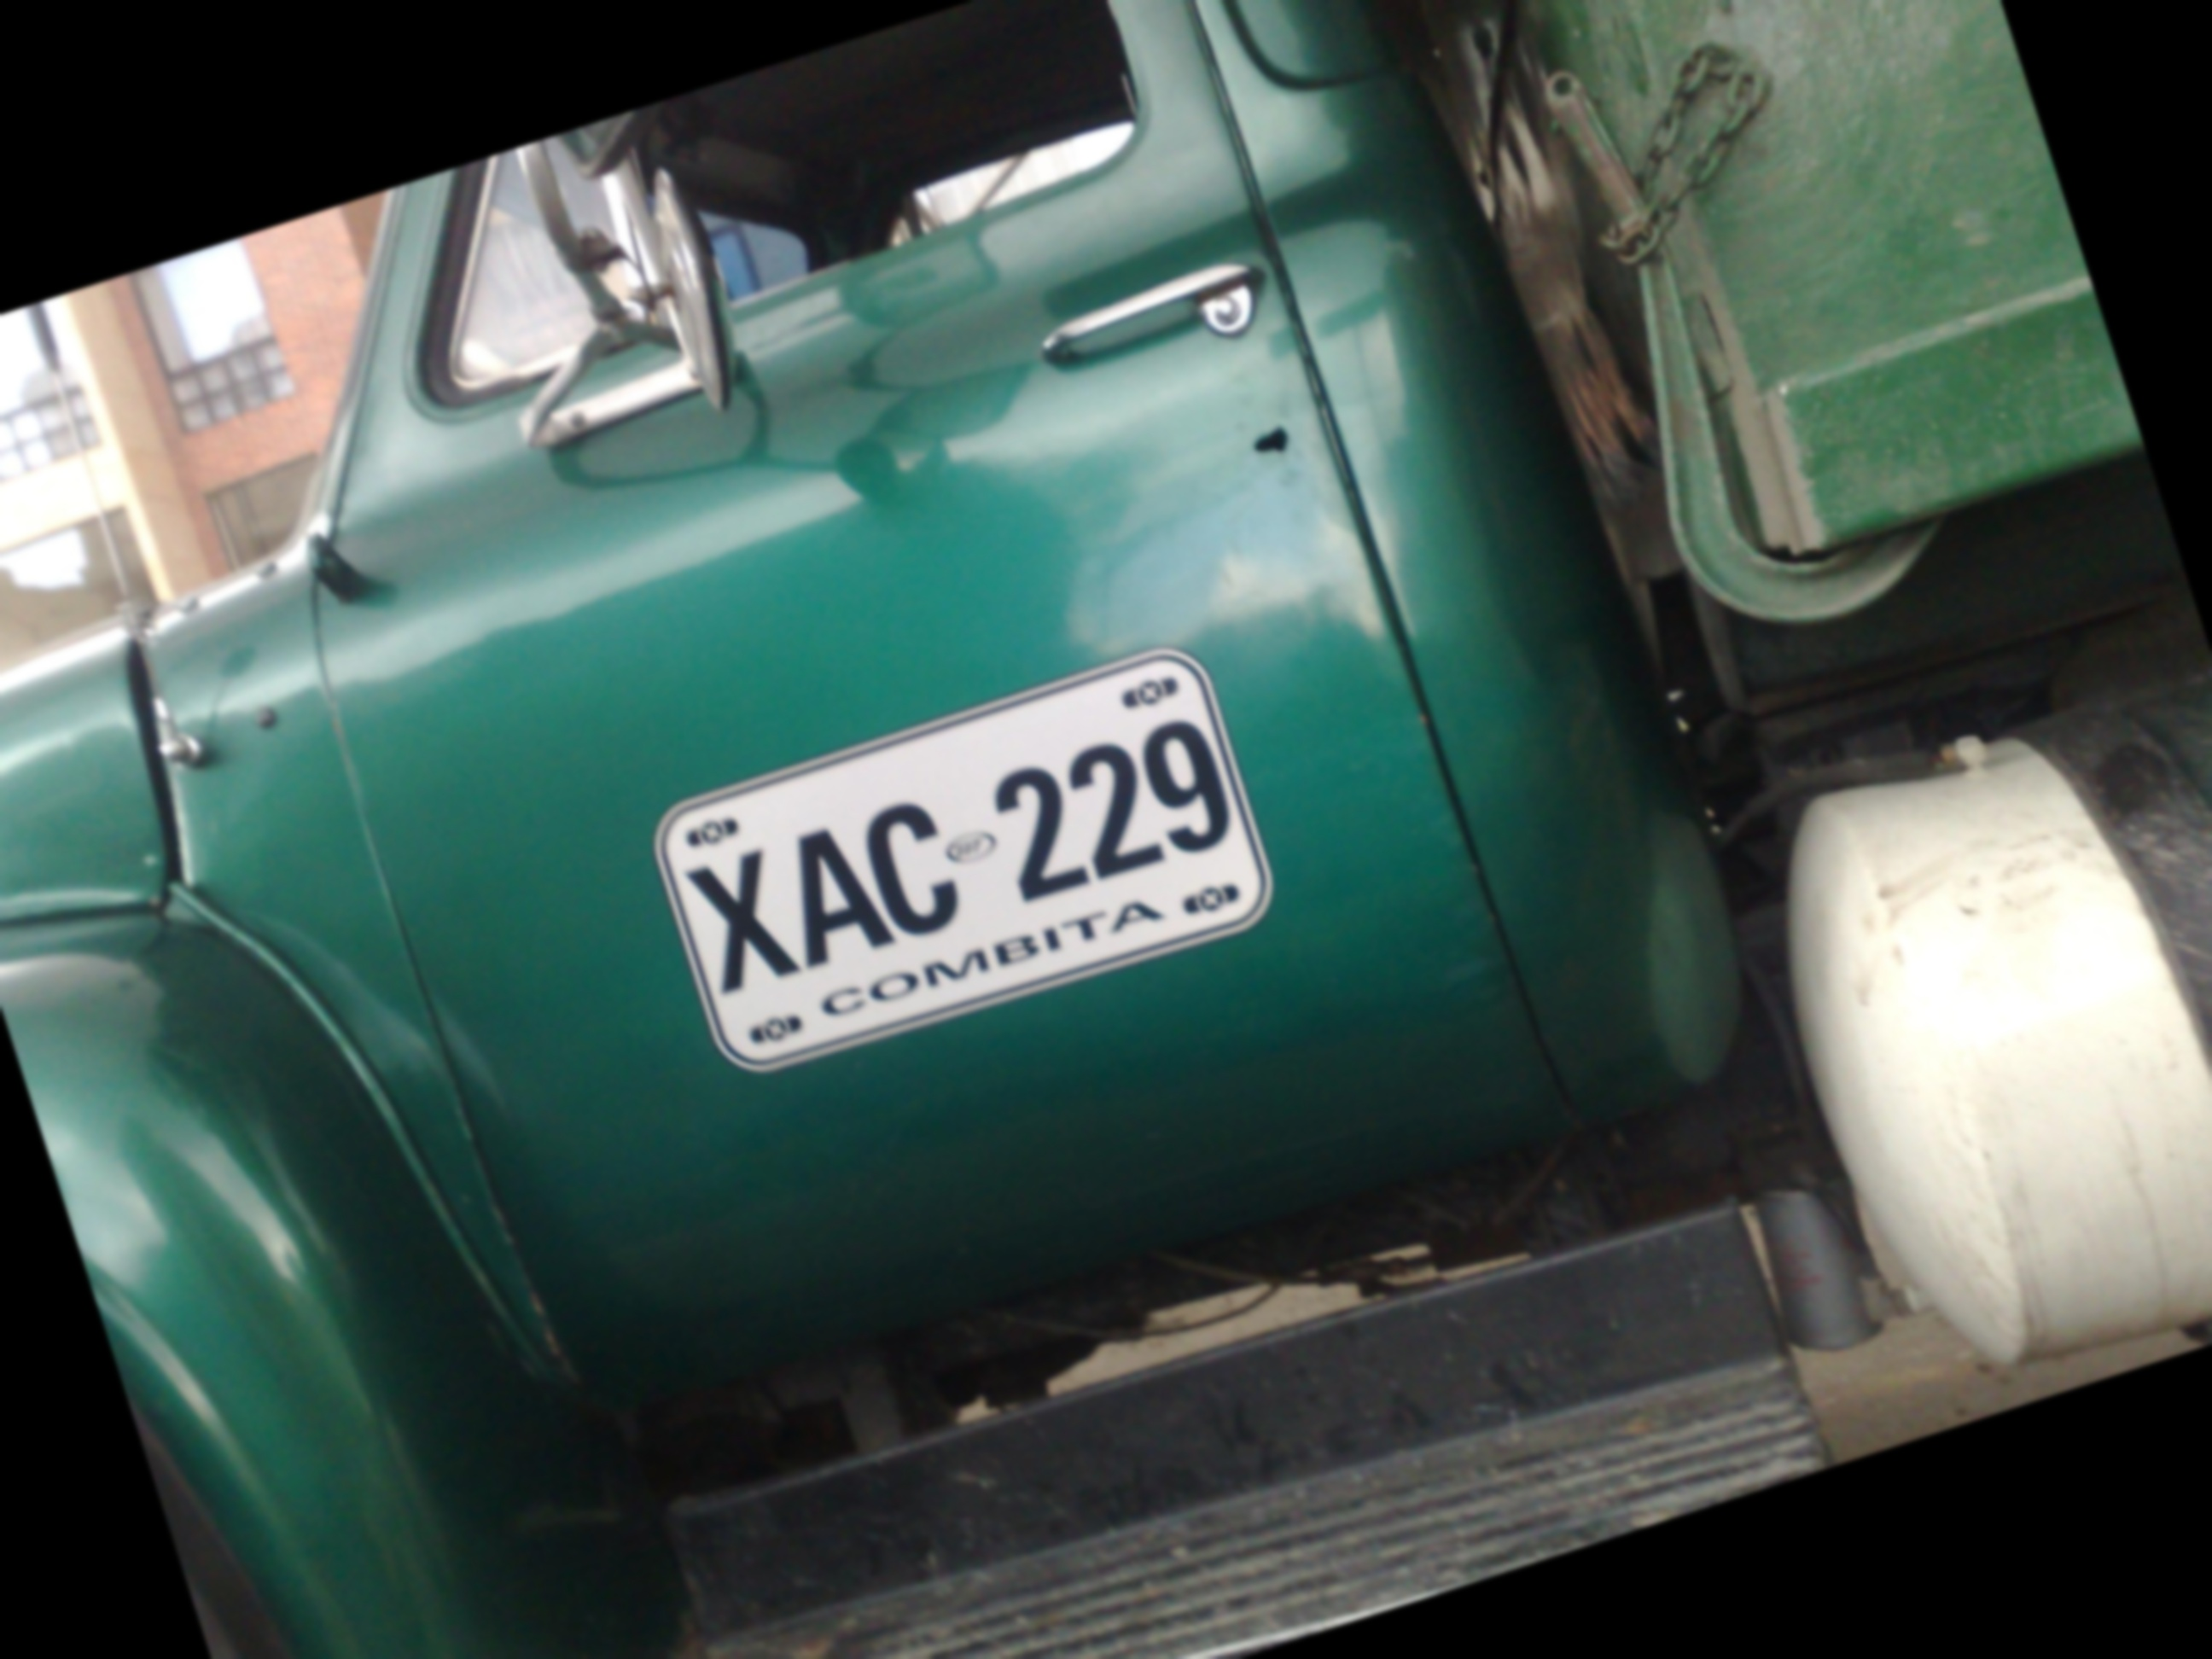placas: (620, 607, 1299, 1109)
